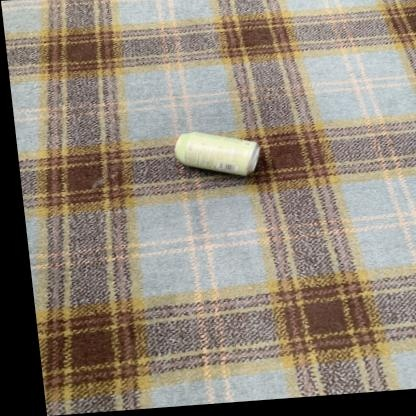trash: (175, 132, 259, 175)
